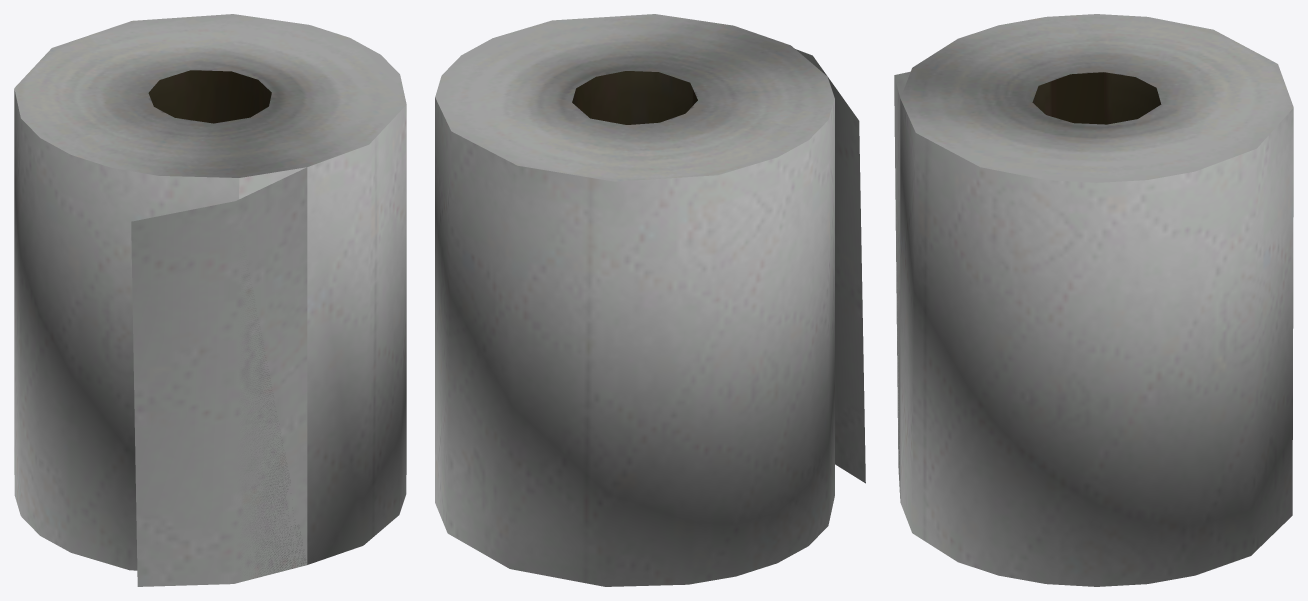
File: paper.glb
3 renders of one model, left to right at view 1: azimuth 30°, elevation 25°; view 2: azimuth 150°, elevation 25°; view 3: azimuth 270°, elevation 25°, orthographic.
Visible parts, largest first — view 1: Body_toiletpaperroll.smd; view 2: Body_toiletpaperroll.smd; view 3: Body_toiletpaperroll.smd.
Boxes of the visible parts, x1,y1,x2,y2 form: Body_toiletpaperroll.smd: (14,14,406,586); Body_toiletpaperroll.smd: (435,14,865,586); Body_toiletpaperroll.smd: (894,14,1293,586).
Size of the model in its own units: 0.0854 by 0.0953 by 0.0854.
Materials: 1 (1 with a texture image).
